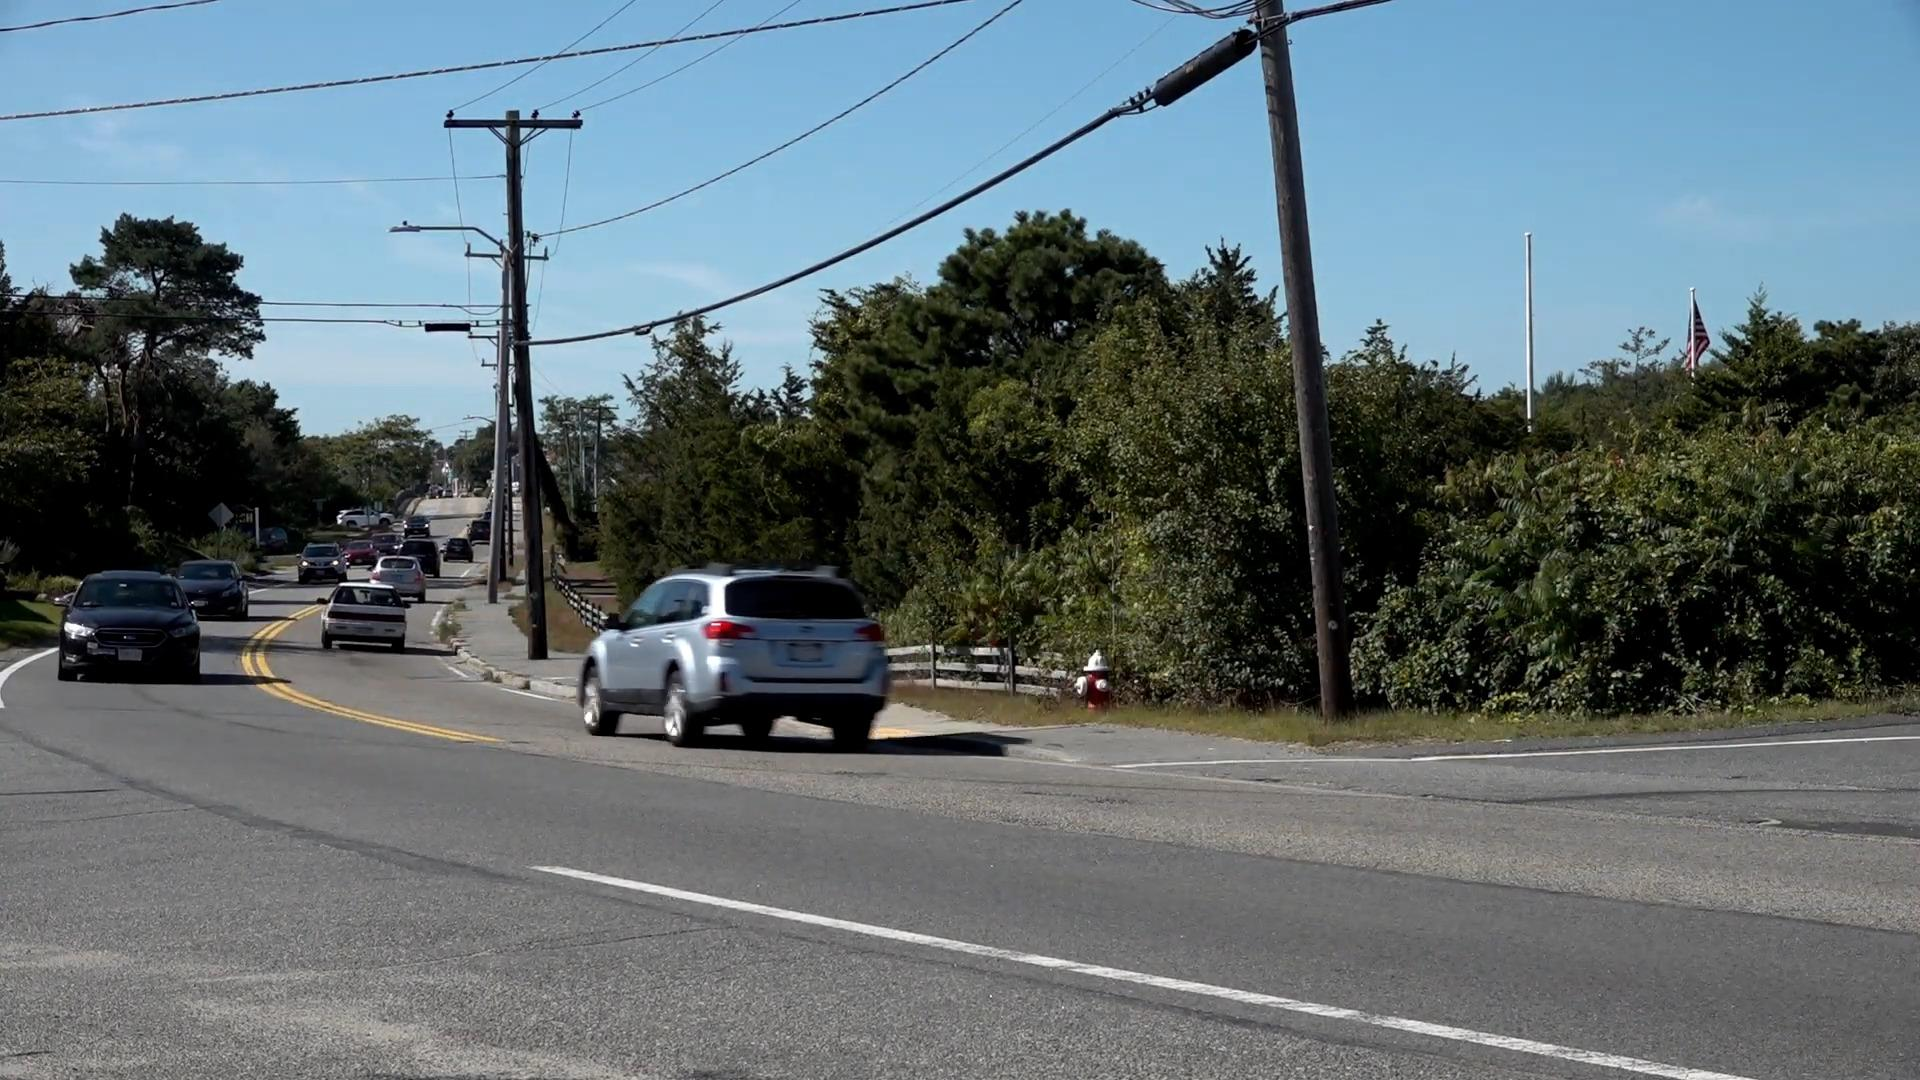sedans: (61, 573, 207, 687), (320, 579, 413, 653)
suv: (577, 566, 894, 754)
